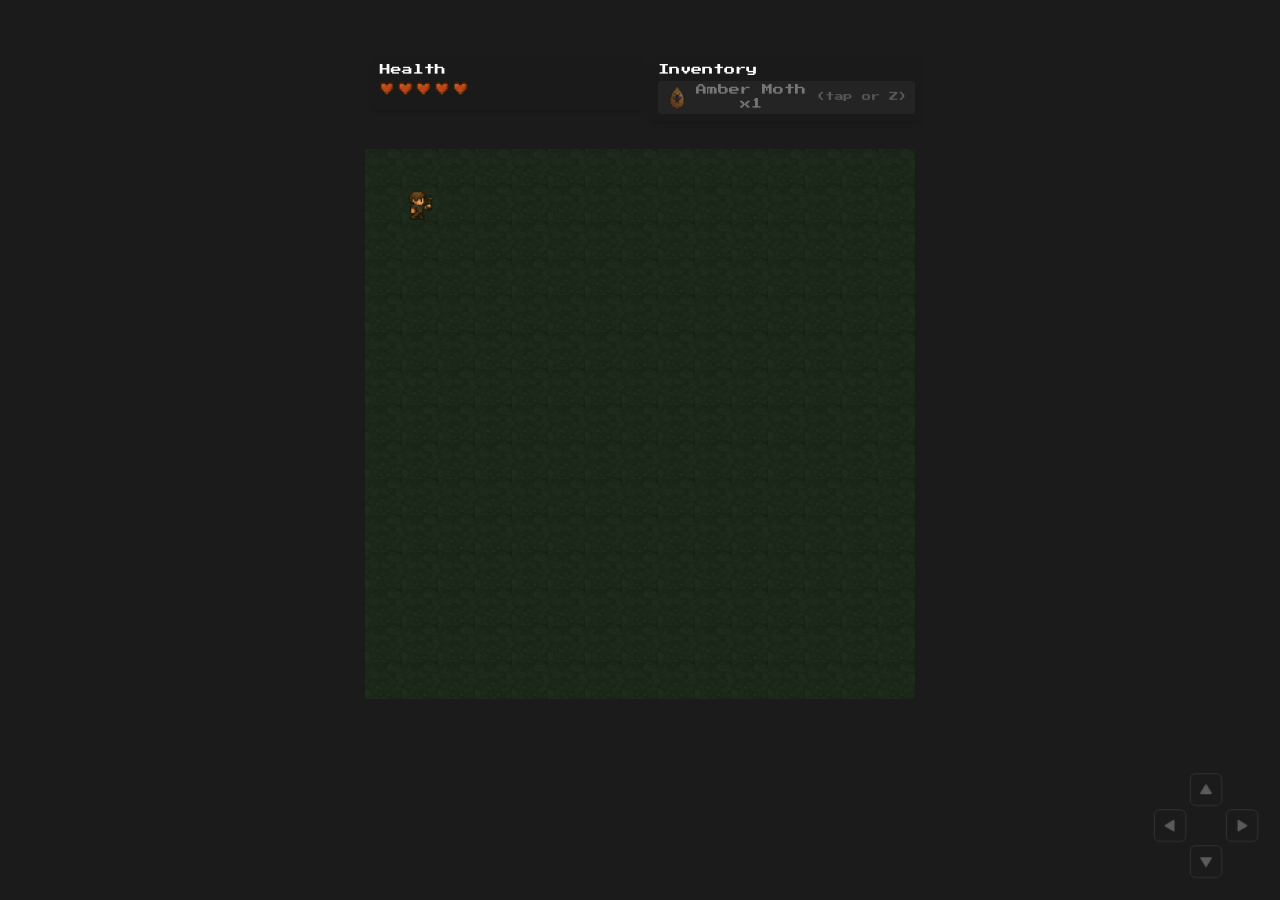
Test case: Amber Moth — manual rewind › opens a preview one step back and reports the depth
The image size is (1280, 900).
Press ArrowRight
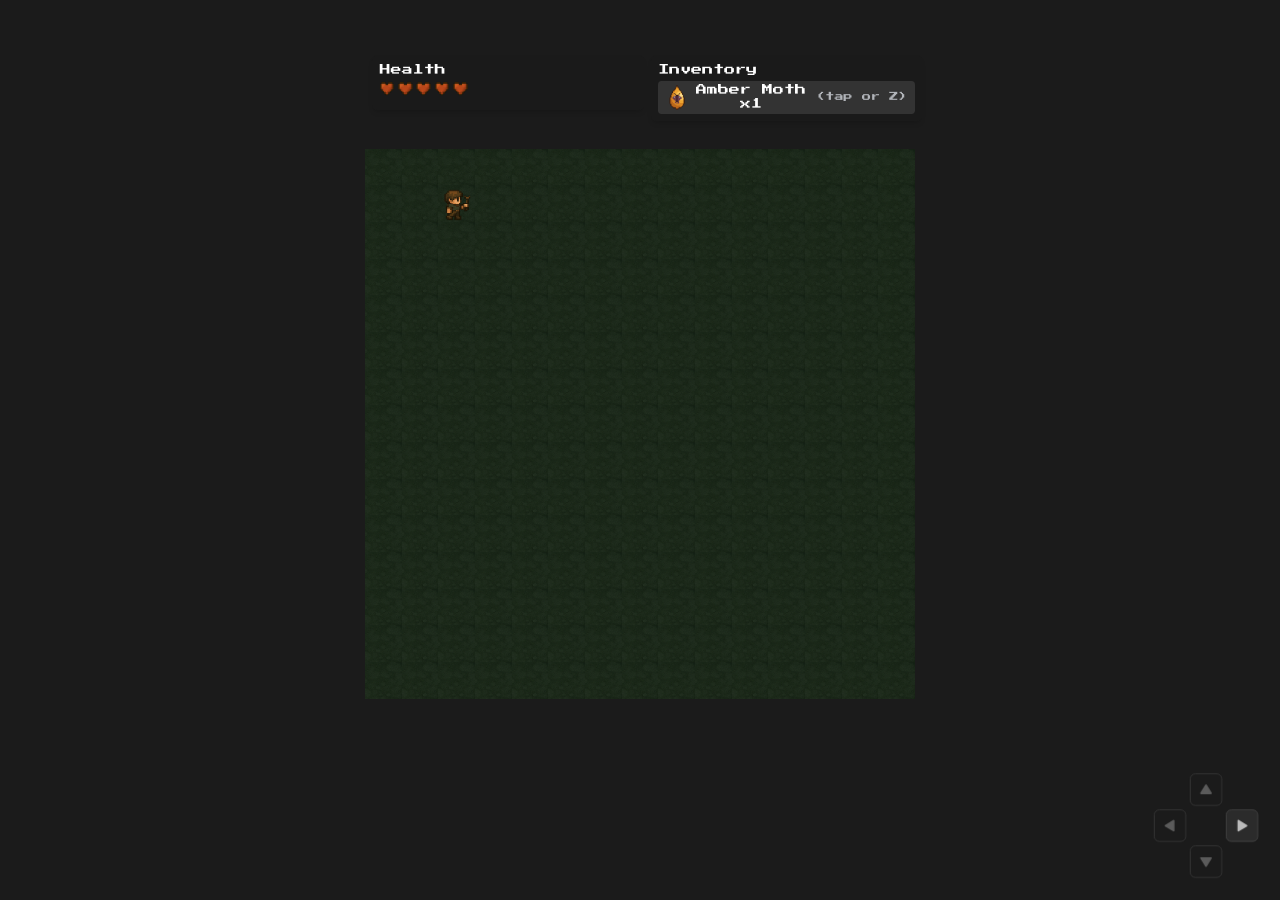
Press ArrowRight
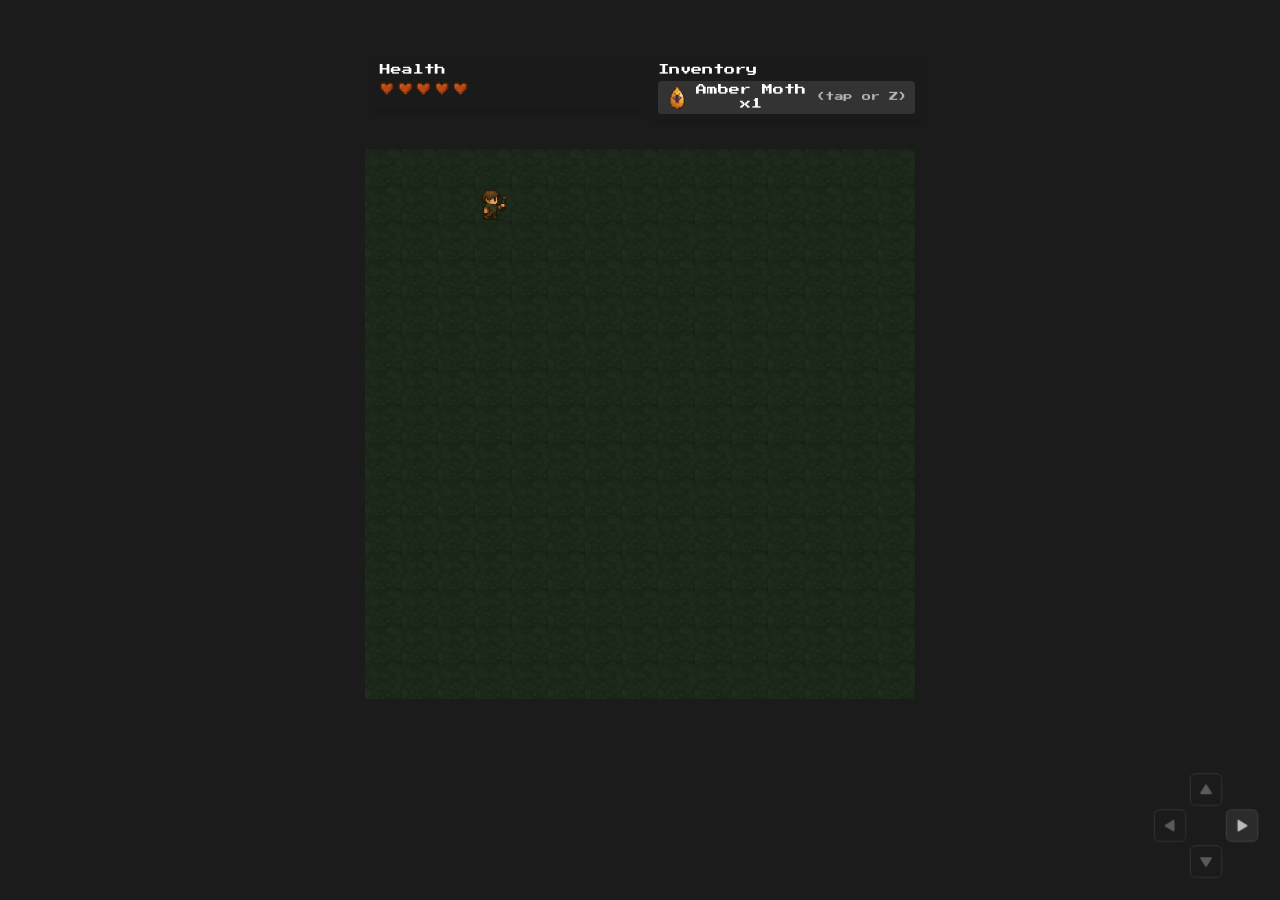
Press ArrowRight
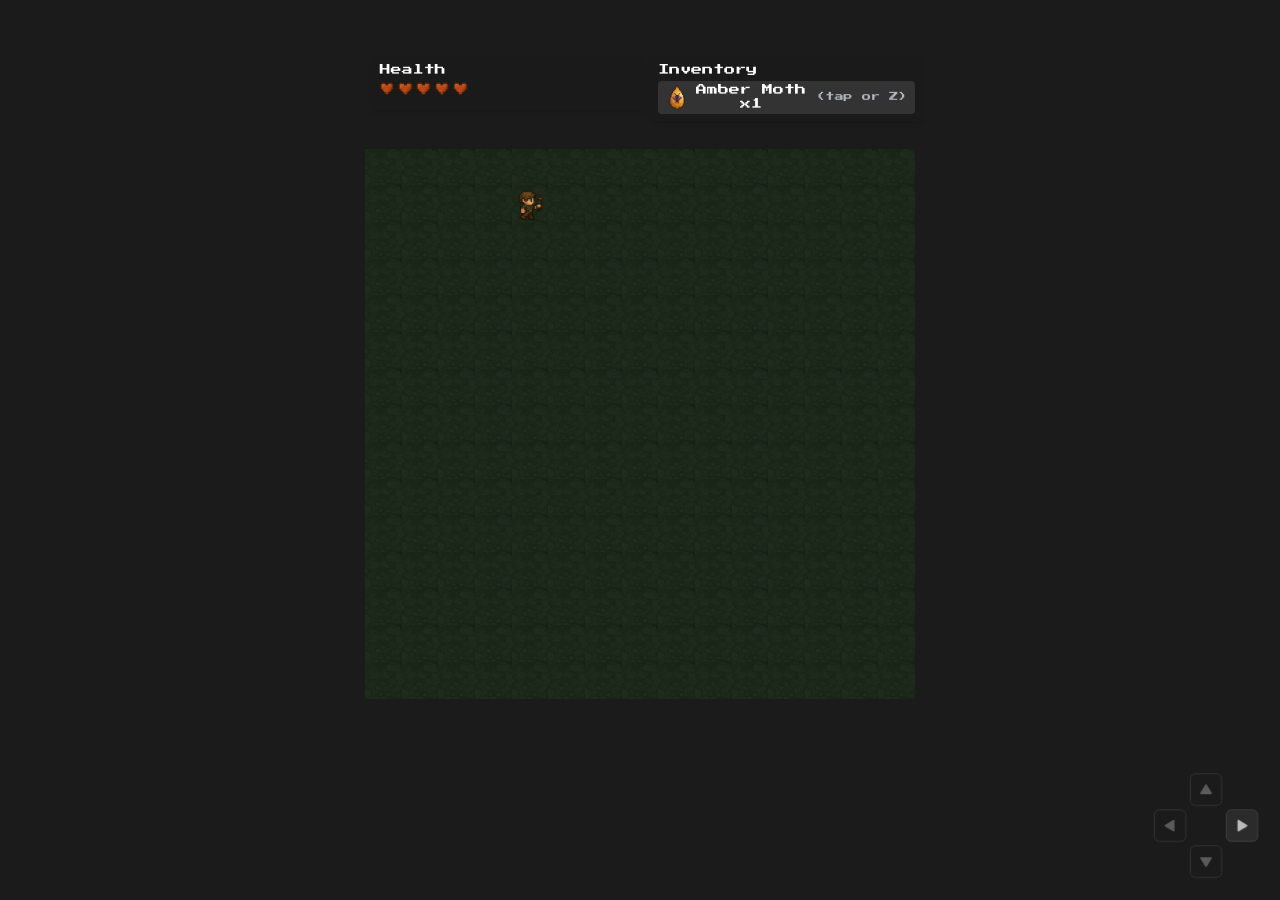
Press ArrowRight
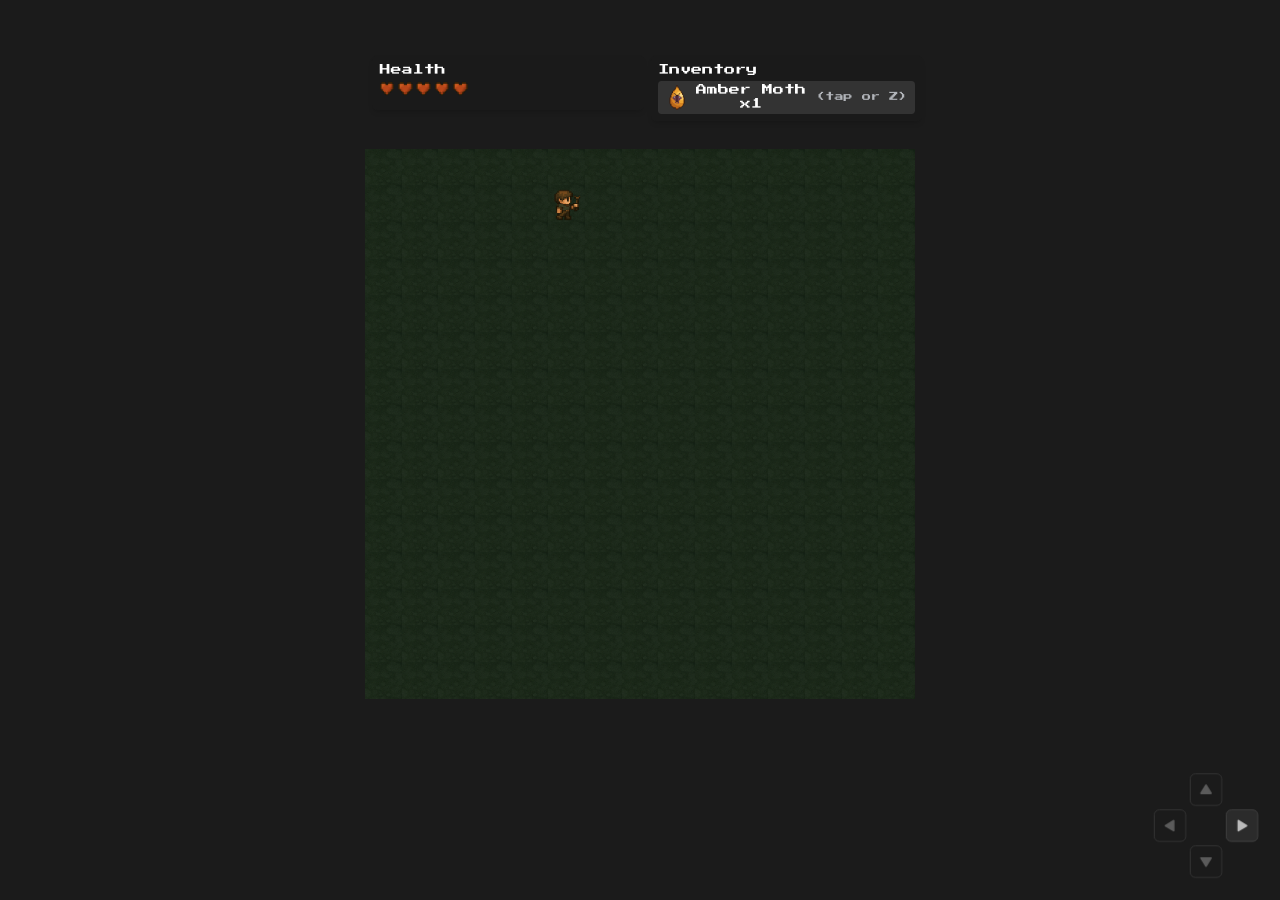
Click the button with test id "amber-moth-button".
click(787, 98)  # box [658,81,915,114]
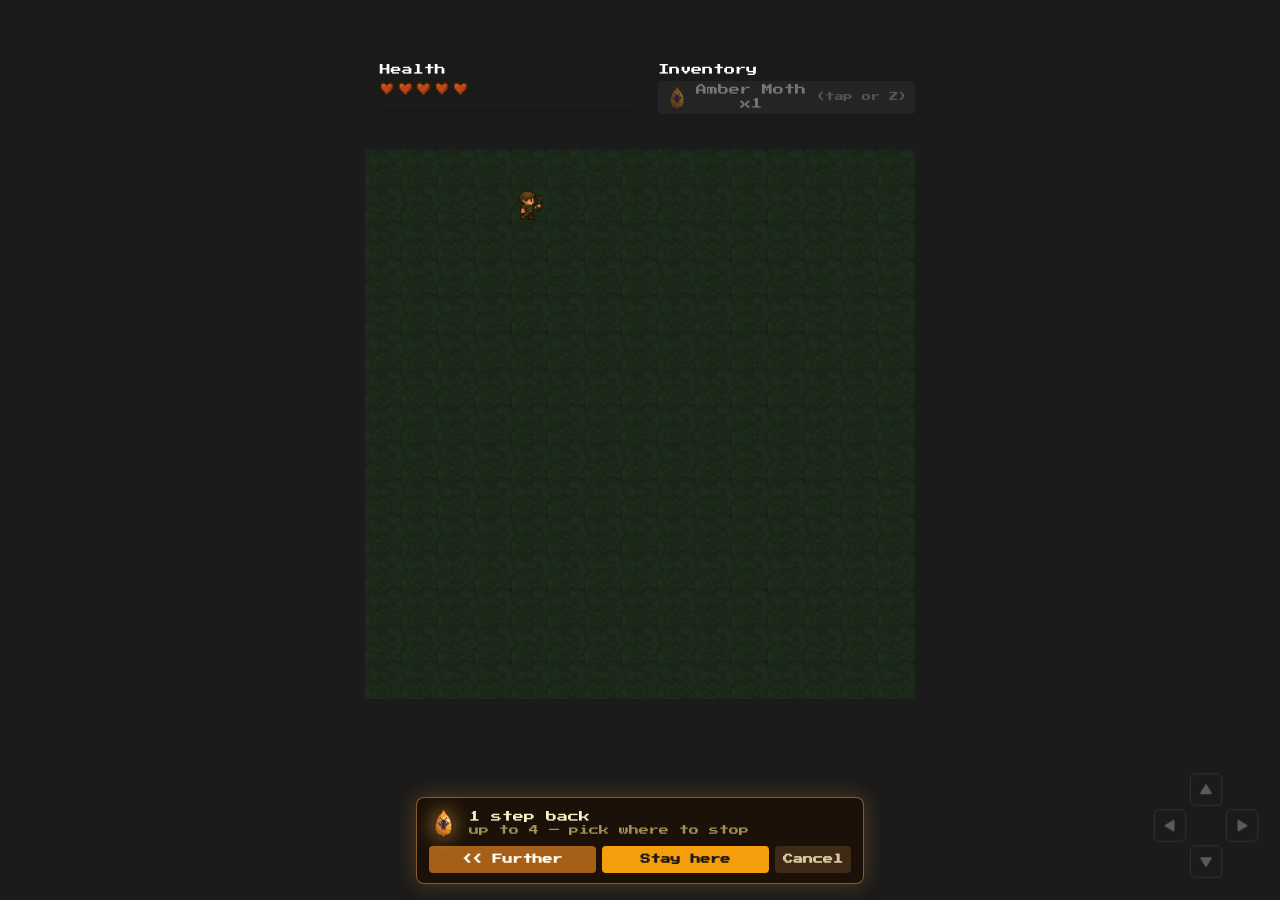
Expected: the dialog with test id "rewind-preview" is shown, [416,797,864,884]
Expected: the text with test id "rewind-depth" reads "1 step back", [469,811,590,822]
